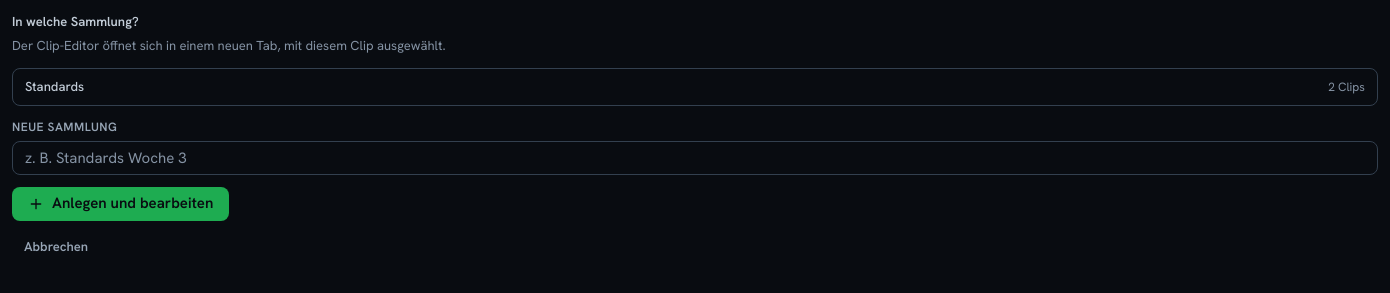
Test: EditInCollection › closes the tab when the collection could not be created
Type "Ecken" into the field labelled "Neue Sammlung" at {"x": 695, "y": 158}, box [12, 141, 1378, 175]
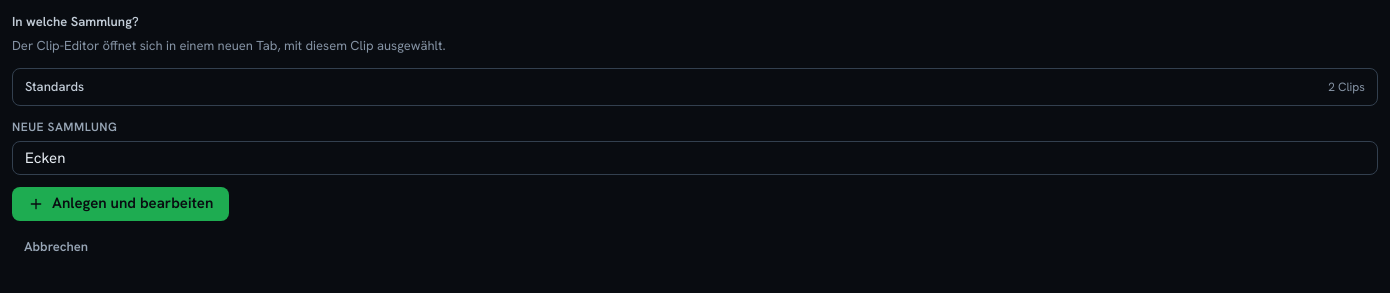
Click the button "Anlegen und bearbeiten" at {"x": 121, "y": 204}, box [12, 187, 229, 221]
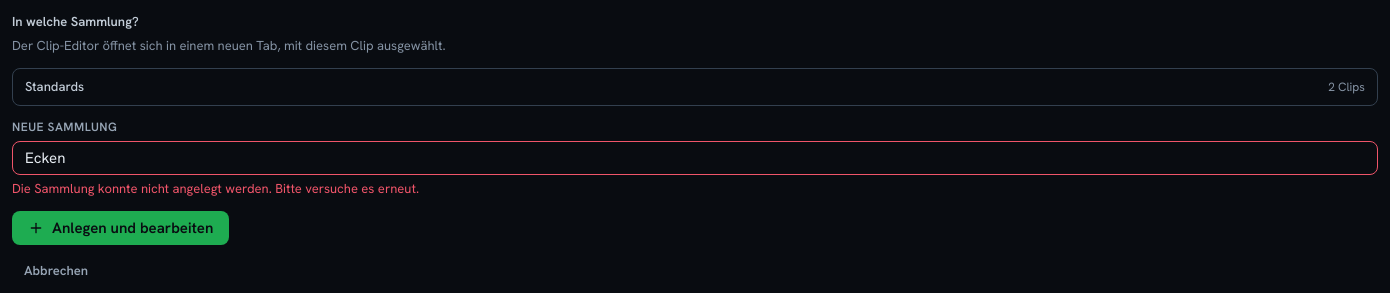
Now the text "Die Sammlung konnte nicht angelegt werden. Bitte versuche es erneut." is shown once, box [12, 180, 419, 197]
